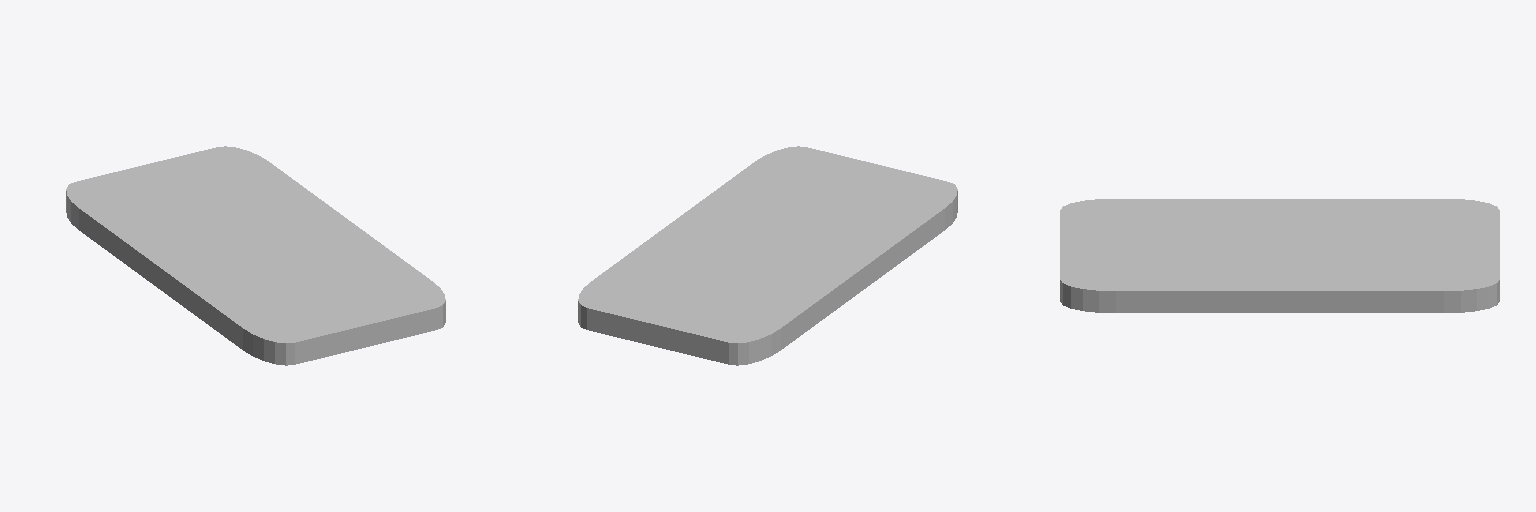
File: BackScreen.obj
3 renders of one model, left to right at view 1: azimuth 30°, elevation 25°; view 2: azimuth 150°, elevation 25°; view 3: azimuth 270°, elevation 25°, orthographic.
Visible parts, largest first — view 1: Cube; view 2: Cube; view 3: Cube.
Part boxes in pixels (x1,y1,x2,y2): Cube: (66,146,445,365); Cube: (578,146,957,365); Cube: (1060,199,1499,312).
Bounding box in the file's own units: 1.8 × 0.2 × 3.6.